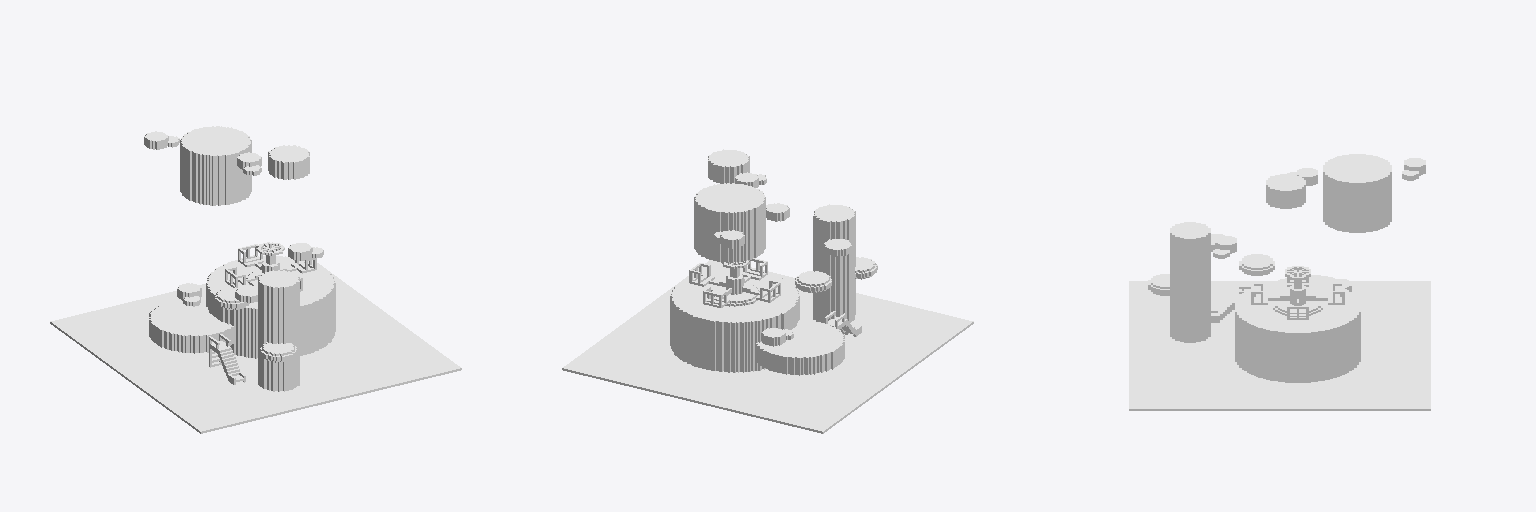
Rendered from lev1-5.obj.
The picture shows the model from 3 angles: view 1: azimuth 30°, elevation 25°; view 2: azimuth 150°, elevation 25°; view 3: azimuth 270°, elevation 25°; orthographic projection.
Parts seen in each view (by area): view 1: object 1; view 2: object 1; view 3: object 1.
Part boxes in pixels (x1,y1,x2,y2): object 1: (50, 126, 461, 433); object 1: (562, 149, 973, 433); object 1: (1129, 154, 1430, 410).
Size of the model in its own units: 12.6 by 8.4 by 12.6.